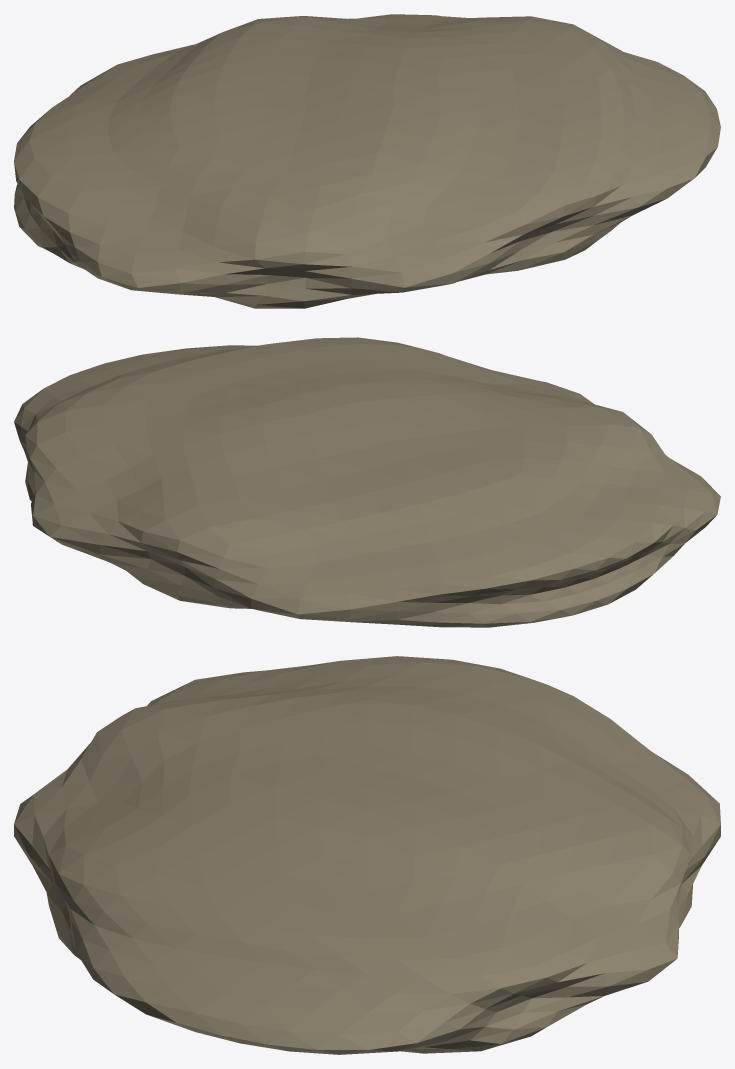
File: Bana_Ancient_Root_Arch.glb
3 views of the same model, one above another, from view 1: azimuth 30°, elevation 25°; view 2: azimuth 150°, elevation 25°; view 3: azimuth 270°, elevation 25° (orthographic). The views are drawn at different scales.
Parts seen in each view (by area): view 1: world; view 2: world; view 3: world.
Boxes of the visible parts, left/top/right/bottom form: world: left=14, top=14, right=720, bottom=308; world: left=14, top=337, right=720, bottom=627; world: left=14, top=656, right=720, bottom=1054.
Bounding box in the file's own units: 5.71 × 1.04 × 4.6.
